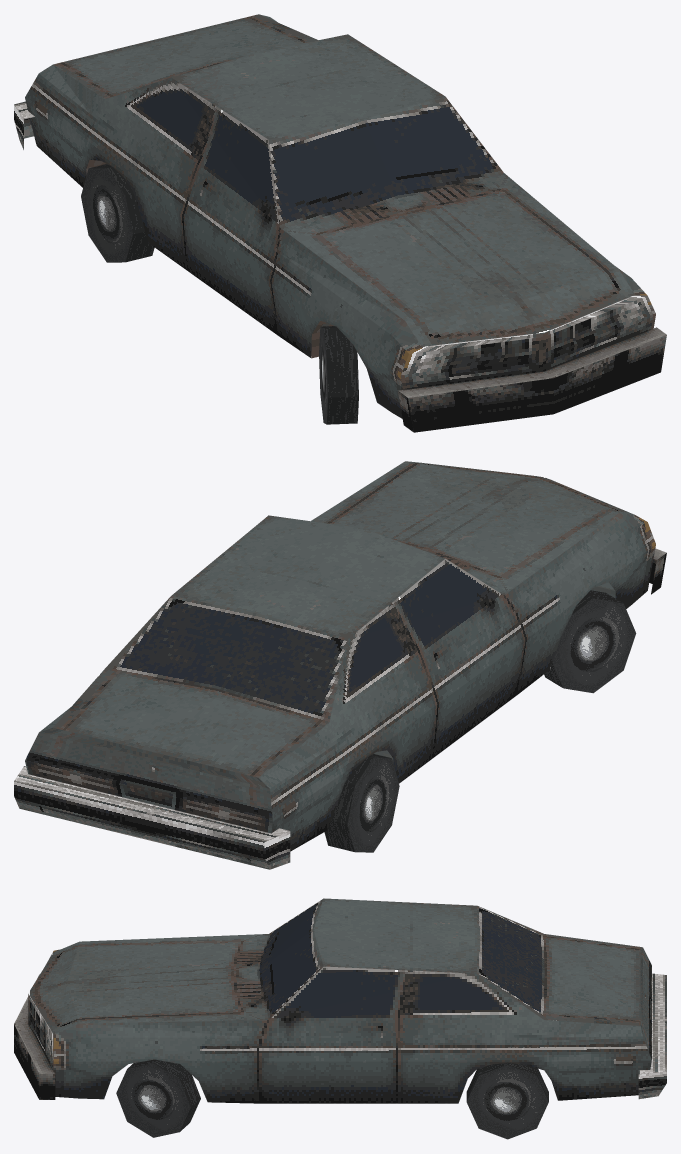
File: psx_style_pontiac_ventura_1977s.glb
The picture shows the model from 3 angles, top to bottom: view 1: azimuth 30°, elevation 25°; view 2: azimuth 150°, elevation 25°; view 3: azimuth 270°, elevation 25°; orthographic projection. The views are drawn at different scales.
Parts seen in each view (by area): view 1: car; view 2: car; view 3: car.
Part boxes in pixels (bbox=[...]): car: bbox=[14, 14, 666, 432]; car: bbox=[14, 461, 666, 869]; car: bbox=[14, 898, 666, 1139].
Size of the model in its own units: 3.83 by 2.43 by 9.08.
Materials: 2 (2 with a texture image).
